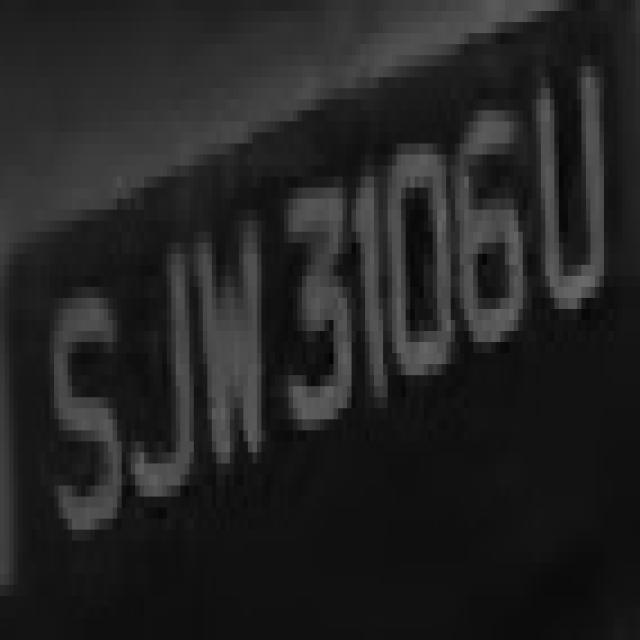0: (370, 154, 446, 420)
1: (343, 132, 392, 442)
3: (275, 166, 351, 497)
6: (438, 110, 528, 408)
J: (126, 210, 198, 518)
S: (36, 276, 126, 574)
U: (518, 22, 618, 320)
W: (171, 198, 275, 496)
